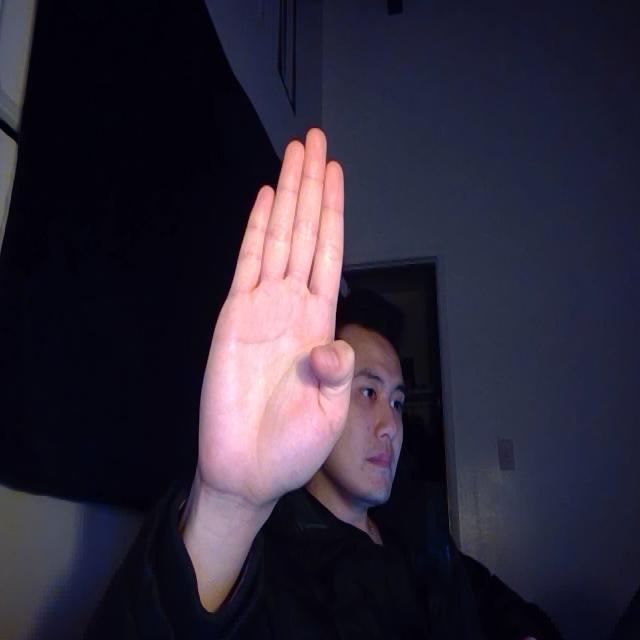B: (178, 114, 388, 530)
